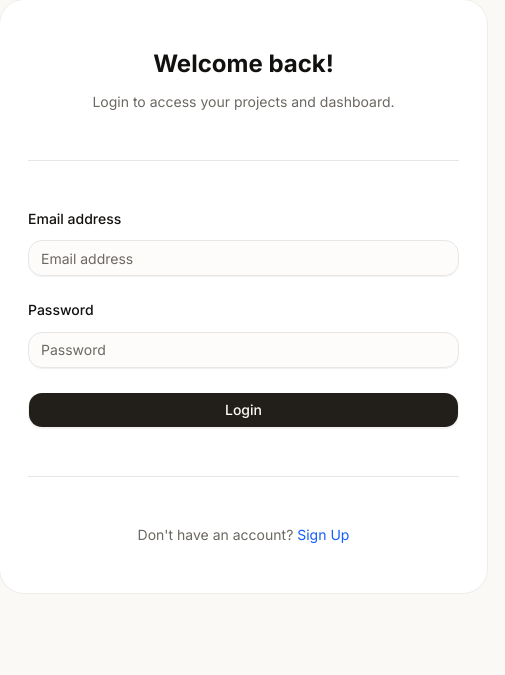
Test: SignInCard component › shows validation error messages when submitting invalid email/password
The image size is (505, 675).
Step 1. Click the button "Login" → (244, 410), box x1=28 y1=392 x2=459 y2=428
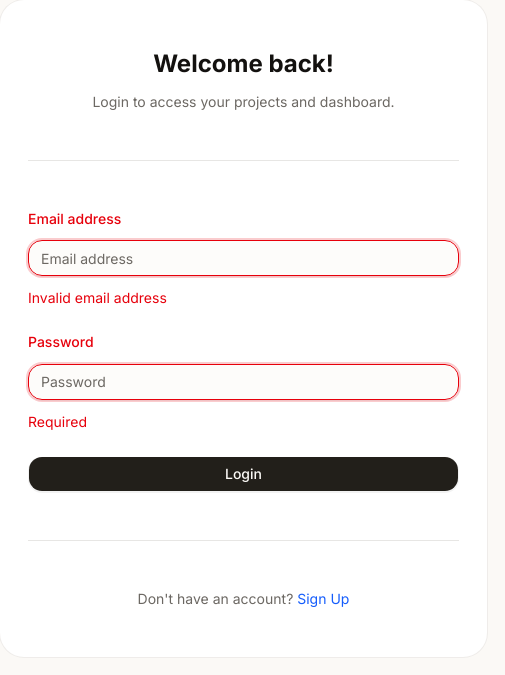
Result: the text "Invalid email address" is shown at x1=28 y1=289 x2=167 y2=306
Result: the text "Required" is shown at x1=28 y1=412 x2=87 y2=430
